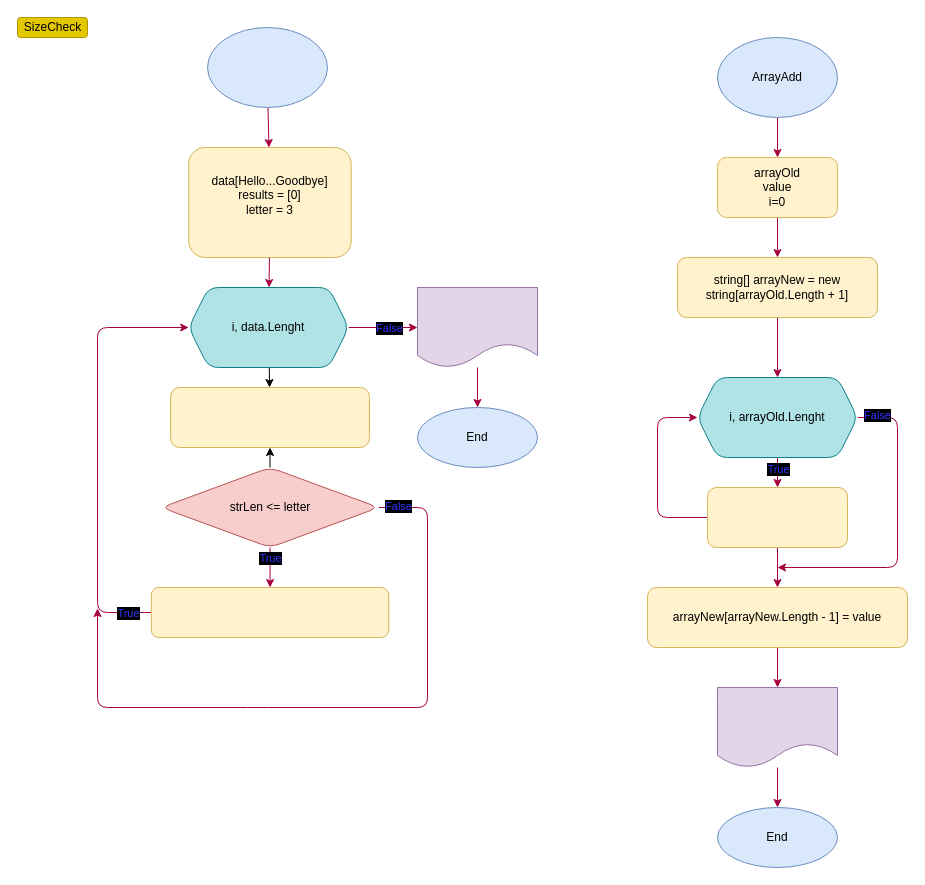
Image size: 925x885. Some labels were removed from this diagram. The box of each missing label's shape, as (x1, y1, x2, y2) in pixels:
arrayNew: (716, 686, 838, 768)
arrayNew[i] = arrayOld[i]: (706, 486, 848, 548)
Begin: (206, 26, 328, 108)
results: (416, 286, 538, 368)
results = ArrayAdd(results, data[i]): (150, 586, 389, 638)
strLen=data[i].Lenght: (170, 386, 369, 448)
